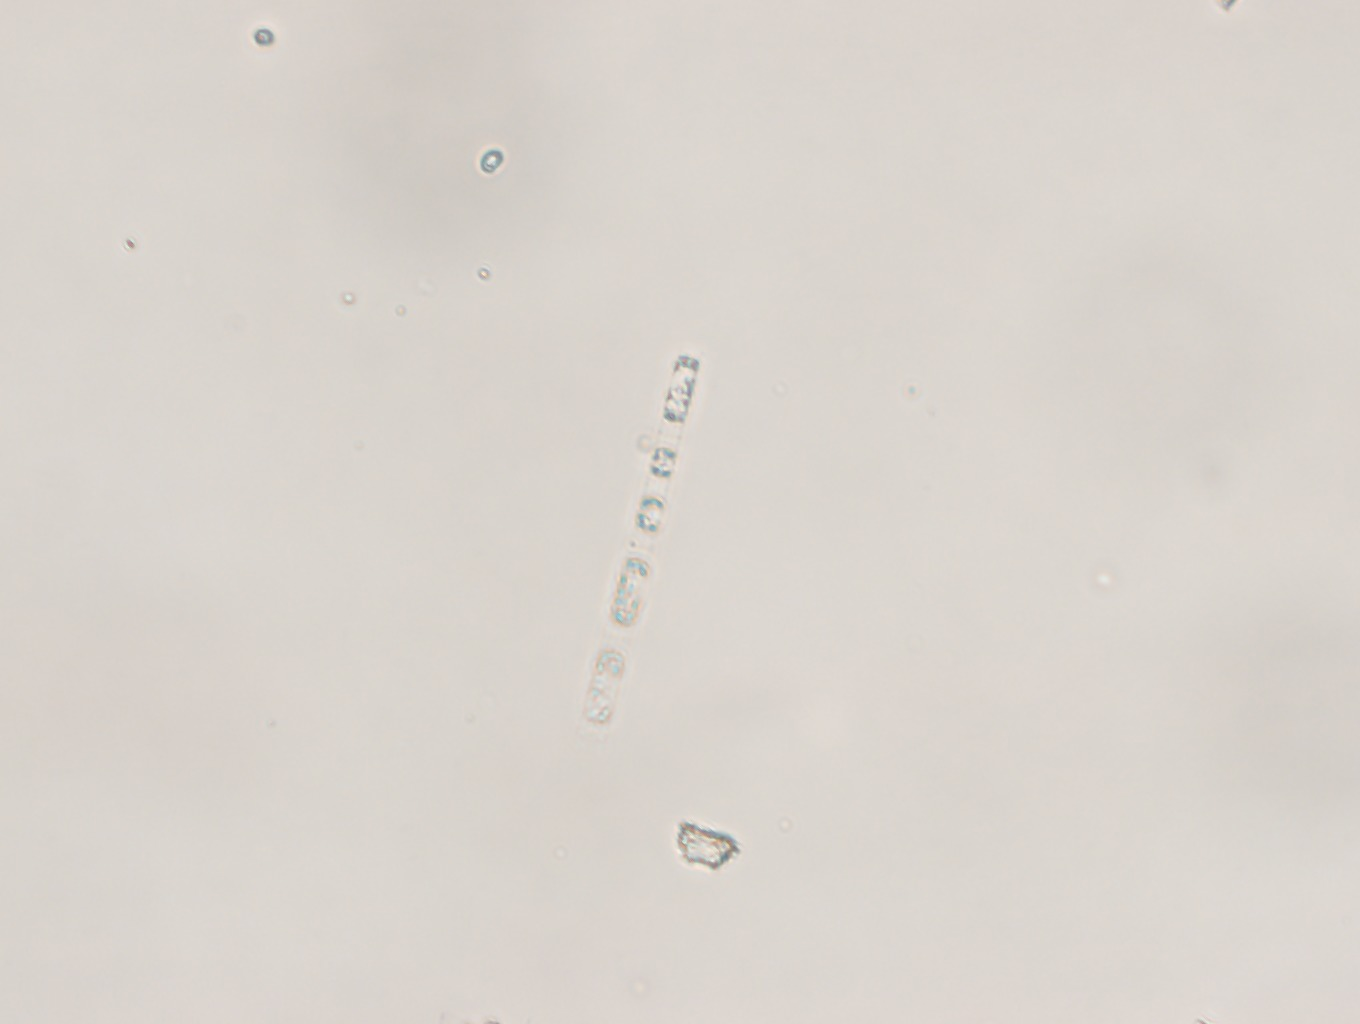skeletonema: (576, 353, 708, 731)
